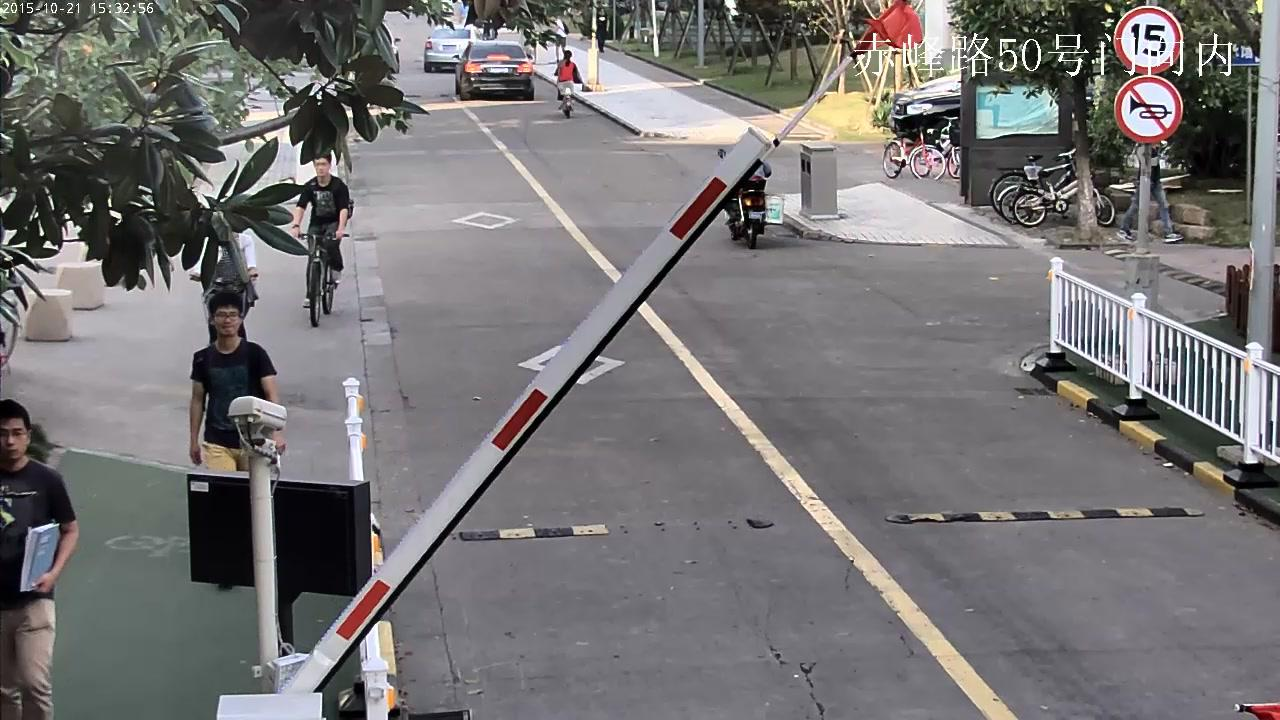face: (0, 418, 26, 459), (213, 305, 239, 335), (313, 157, 328, 176)
